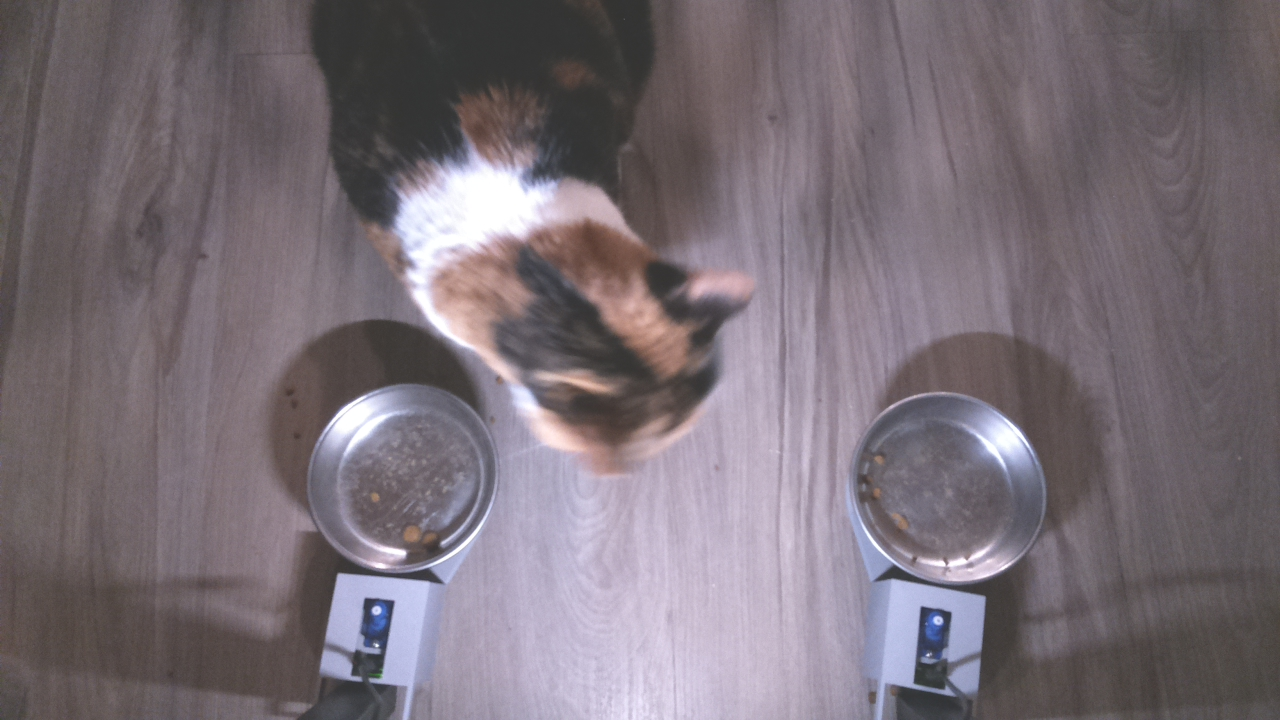bella: (458, 209, 768, 486)
open_bowl: (849, 379, 1066, 598), (306, 386, 501, 572)
